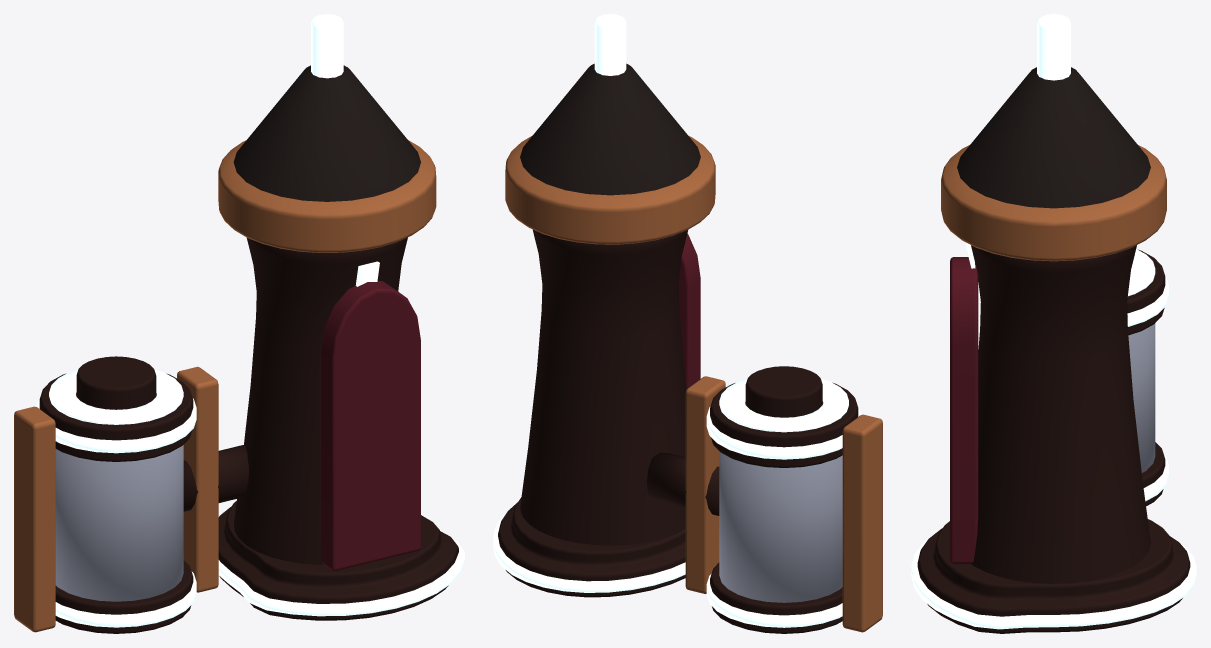
The model's file is Vat_T1.glb.
The picture shows the model from 3 angles, left to right: view 1: azimuth 30°, elevation 25°; view 2: azimuth 150°, elevation 25°; view 3: azimuth 270°, elevation 25°; orthographic projection. The views are drawn at different scales.
Visible parts, largest first — view 1: H_DoorArch, H_Spire, H_TankGoo, H_Roof, H_TankPosts, H_Capital, H_Plinth, H_TankCaps, H_TankNeon, H_PlinthNeon, H_TankPipes, H_Tip; view 2: H_Spire, H_TankGoo, H_Roof, H_TankPosts, H_Capital, H_TankCaps, H_Plinth, H_TankNeon, H_DoorArch, H_PlinthNeon, H_TankPipes, H_Tip; view 3: H_Spire, H_Roof, H_Capital, H_Plinth, H_DoorArch, H_PlinthNeon, H_TankGoo, H_Tip, H_TankNeon, H_TankCaps.
Boxes of the visible parts, x1,y1,x2,y2 form: H_DoorArch: (320, 281, 420, 571); H_Spire: (233, 237, 407, 564); H_TankGoo: (55, 445, 183, 601); H_Roof: (233, 65, 420, 201); H_TankPosts: (14, 366, 218, 632); H_Capital: (218, 140, 436, 252); H_Plinth: (218, 501, 458, 620); H_TankCaps: (39, 356, 193, 633); H_TankNeon: (36, 369, 196, 627); H_PlinthNeon: (218, 511, 464, 616); H_TankPipes: (183, 445, 248, 511); H_Tip: (311, 14, 343, 78); H_Spire: (520, 229, 687, 545); H_TankGoo: (719, 451, 842, 602); H_Roof: (520, 63, 700, 195); H_TankPosts: (685, 376, 882, 632); H_Capital: (505, 136, 715, 244); H_TankCaps: (710, 366, 858, 633); H_Plinth: (498, 497, 685, 597); H_TankNeon: (706, 378, 861, 627); H_DoorArch: (678, 233, 700, 389); H_PlinthNeon: (493, 512, 685, 592); H_TankPipes: (646, 452, 719, 515); H_Tip: (594, 14, 626, 75); H_Spire: (971, 245, 1150, 583); H_Roof: (957, 67, 1150, 208); H_Capital: (941, 145, 1166, 261); H_Plinth: (917, 519, 1190, 633); H_DoorArch: (950, 257, 978, 563); H_PlinthNeon: (911, 533, 1196, 629); H_TankGoo: (1128, 323, 1155, 472); H_Tip: (1037, 14, 1070, 80); H_TankNeon: (1127, 249, 1168, 501); H_TankCaps: (1127, 249, 1165, 506).
Bounding box in the file's own units: 4.69 × 6.25 × 2.85.
